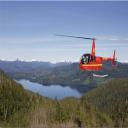helicopter: (55, 34, 128, 78)
